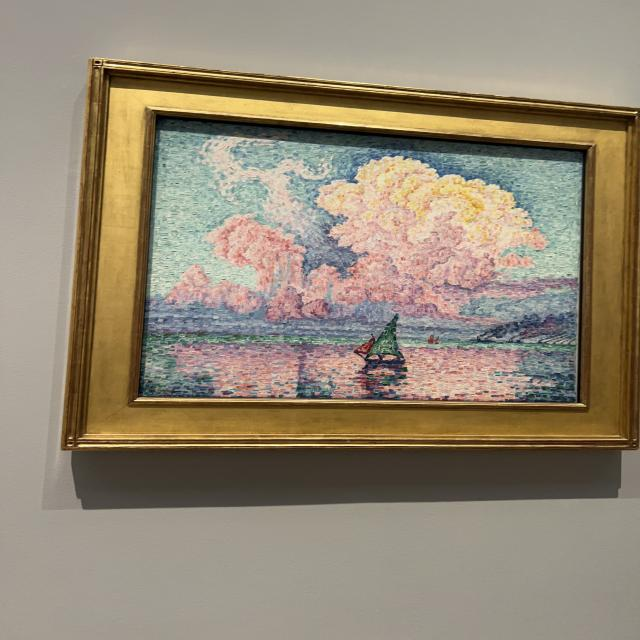sunrise: (148, 132, 582, 398)
